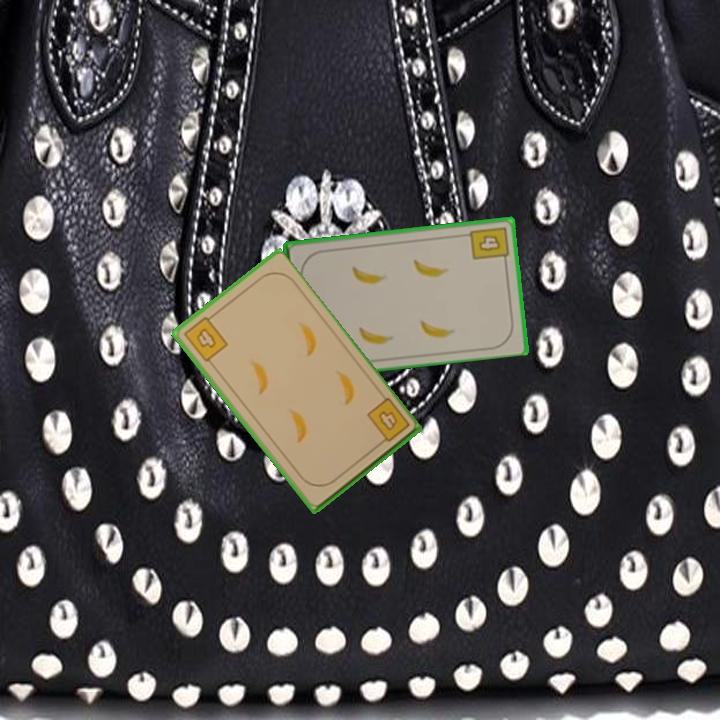4b: (180, 310, 231, 365), (363, 394, 413, 449), (467, 223, 511, 266)
